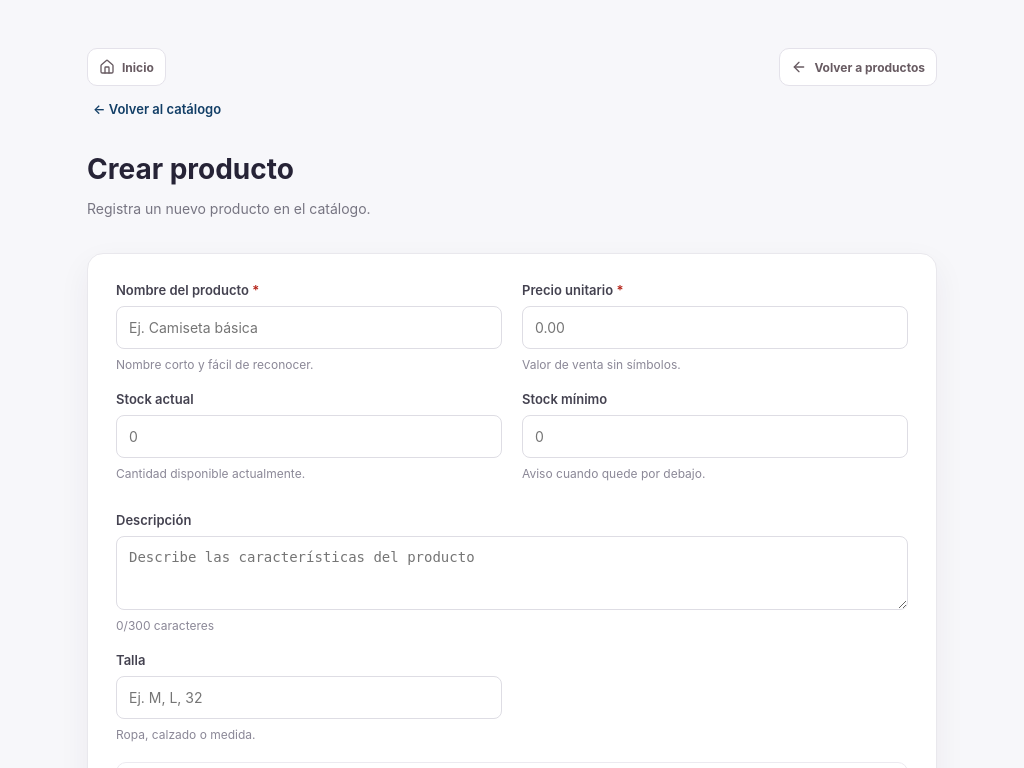
keeps the form available and shows a safe message when creation fails
This screenshot has width=1024, height=768.
Type "  Camiseta  " into the field labelled "Nombre del producto *".
click(309, 327); type("  Camiseta  ")  # box [116,306,502,349]
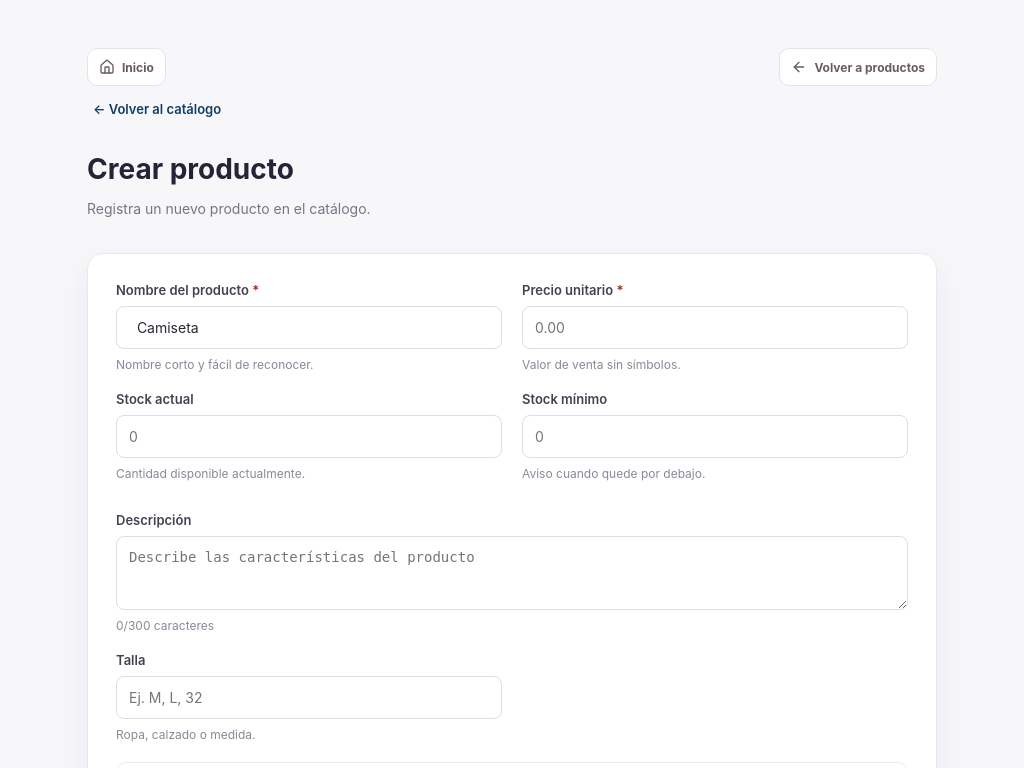
Type "20" into the number field labelled "Precio unitario *".
click(715, 327); type("20")  # box [522,306,908,349]
(page scrolled)
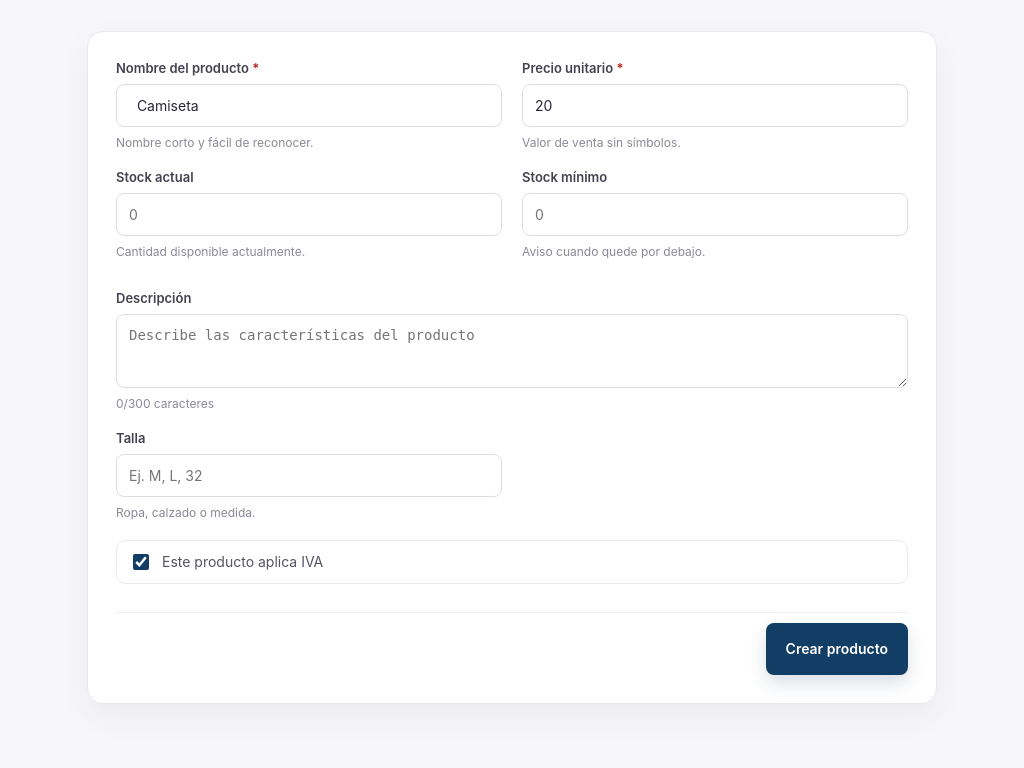
Click the button "Crear producto".
click(837, 648)  # box [766,622,908,674]
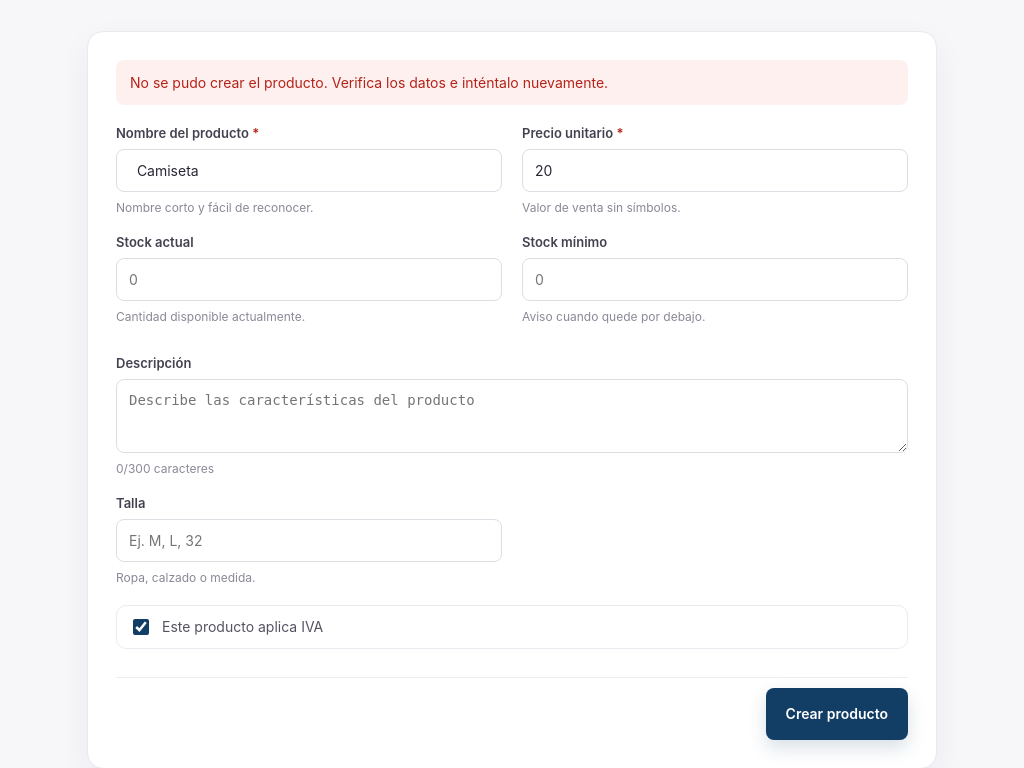
Expected: the button "Crear producto" is enabled, [766,688,908,740]
Now the text "No se pudo crear el producto" is shown, box [130,74,608,91]
